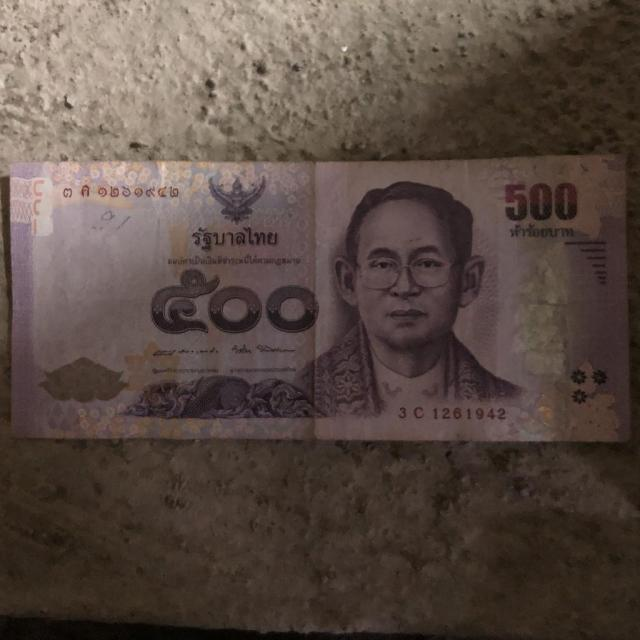THAI500: (6, 154, 632, 446)
